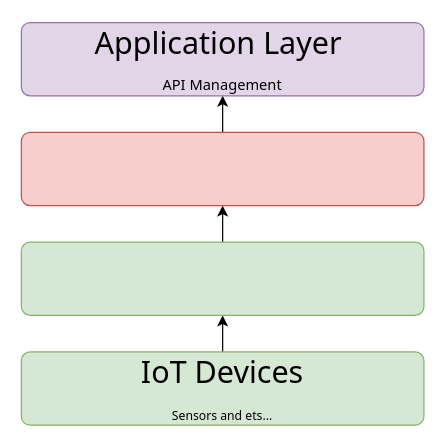
Image size: 445x447. Some labels were removed from this diagram. Each missing label, with the centre of its shape:
"Aggregation Layer IoT gateway layer" belongs at (x=222, y=278).
"Processing Engine Layer Event processing layer" belongs at (x=222, y=168).
